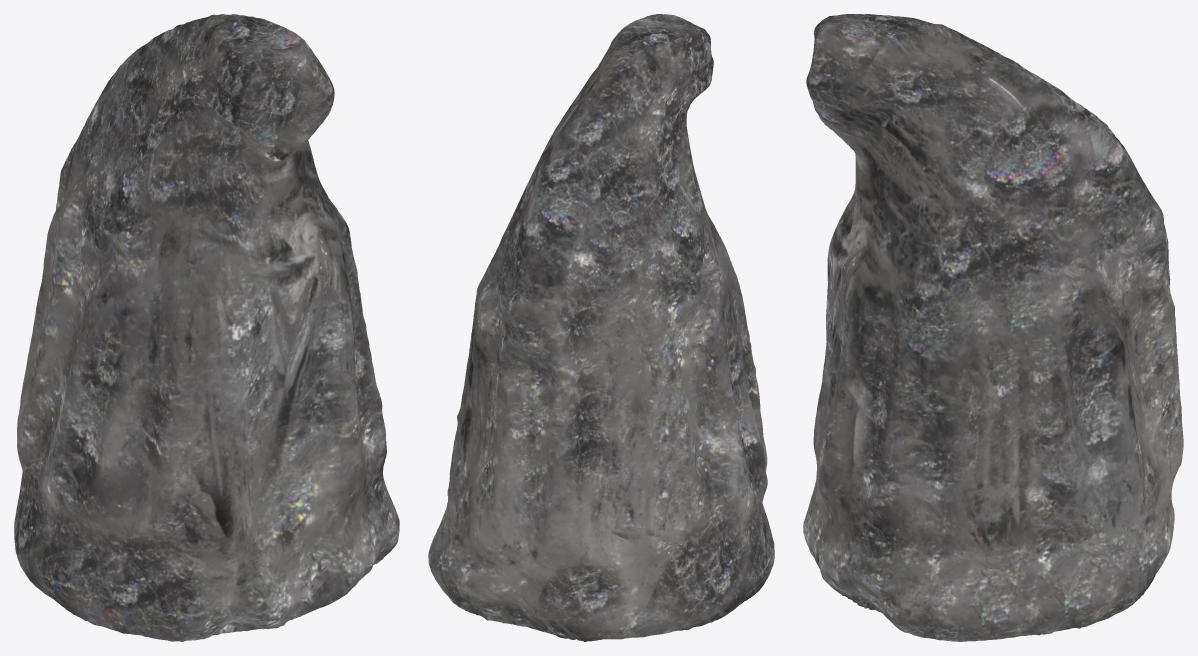
The model's file is preview.glb.
3 views of the same model, side by side, from view 1: azimuth 30°, elevation 25°; view 2: azimuth 150°, elevation 25°; view 3: azimuth 270°, elevation 25° (orthographic). The views are drawn at different scales.
Parts seen in each view (by area): view 1: Vidre_Interior_rsMaterial4SG_0; view 2: Vidre_Interior_rsMaterial4SG_0; view 3: Vidre_Interior_rsMaterial4SG_0.
Part boxes in pixels (x1,y1,x2,y2): Vidre_Interior_rsMaterial4SG_0: (14, 14, 399, 641); Vidre_Interior_rsMaterial4SG_0: (428, 14, 774, 641); Vidre_Interior_rsMaterial4SG_0: (803, 14, 1183, 641).
Size of what is drawn, in the model's own units: 628 by 1032 by 649.
1 material, 1 textured.
